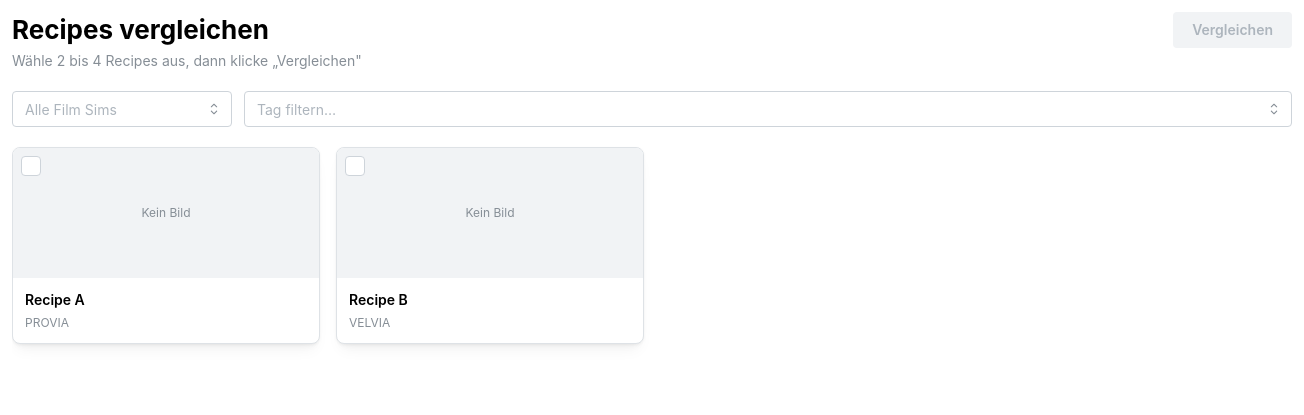
Test: CompareSelectPage › enables Vergleichen button after selecting 2 recipes
This screenshot has width=1304, height=415.
Note: Click first two cards to select them
Click the text "Recipe A" at [55, 300], box x1=25 y1=291 x2=85 y2=308
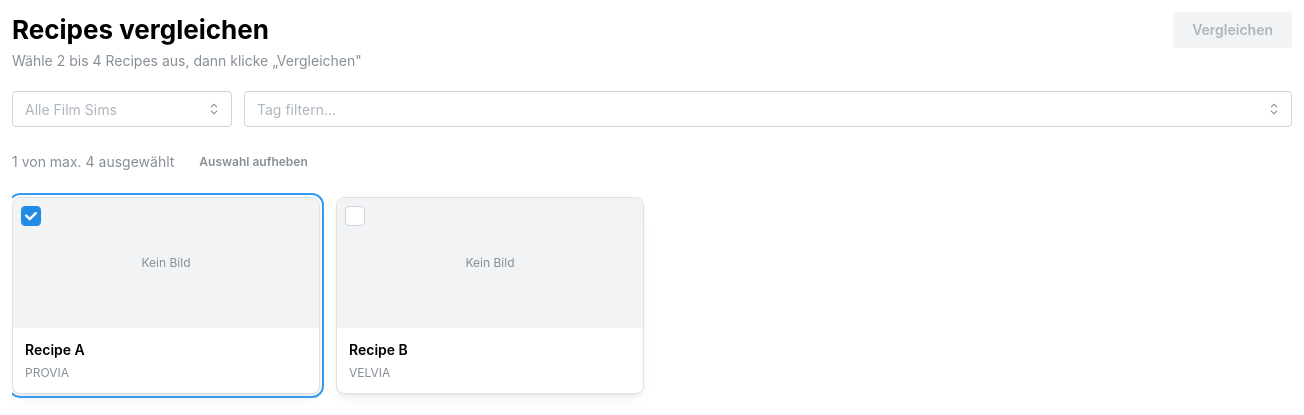
Click the text "Recipe B" at [378, 350], box x1=349 y1=341 x2=408 y2=358
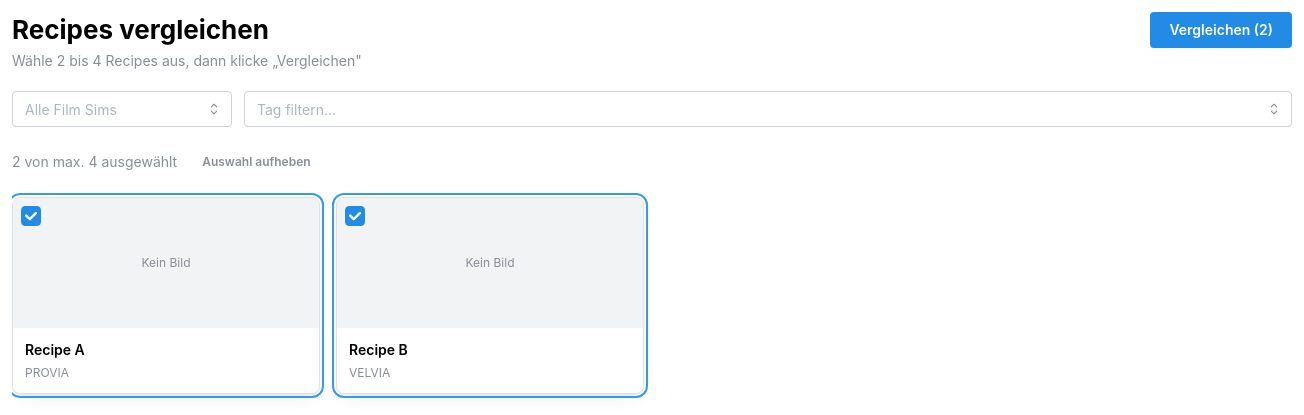
Check: the button "Vergleichen (2)" is enabled, box x1=1150 y1=12 x2=1292 y2=48
